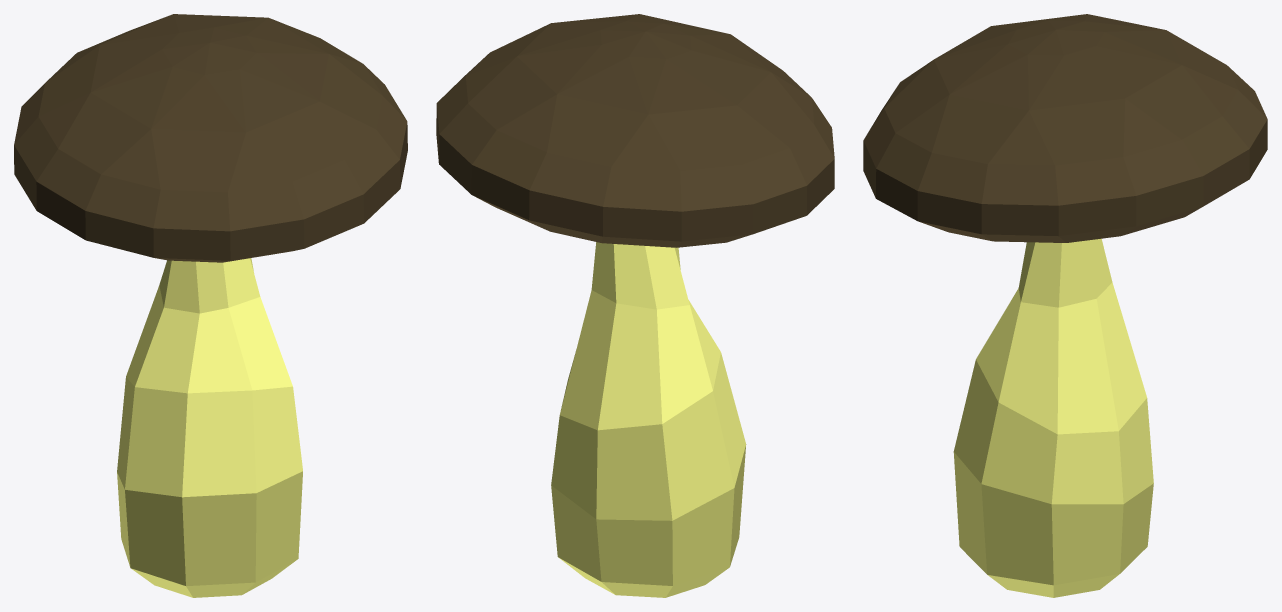
File: Mushroom_Brown.fbx
3 views of the same model, side by side, from view 1: azimuth 30°, elevation 25°; view 2: azimuth 150°, elevation 25°; view 3: azimuth 270°, elevation 25° (orthographic). The views are drawn at different scales.
Parts seen in each view (by area): view 1: Mushroom_Brown; view 2: Mushroom_Brown; view 3: Mushroom_Brown.
Part boxes in pixels (x1,y1,x2,y2): Mushroom_Brown: (14,14,407,597); Mushroom_Brown: (436,14,834,597); Mushroom_Brown: (863,14,1267,597).
Bounding box in the file's own units: 0.2069 × 0.3049 × 0.2066.
